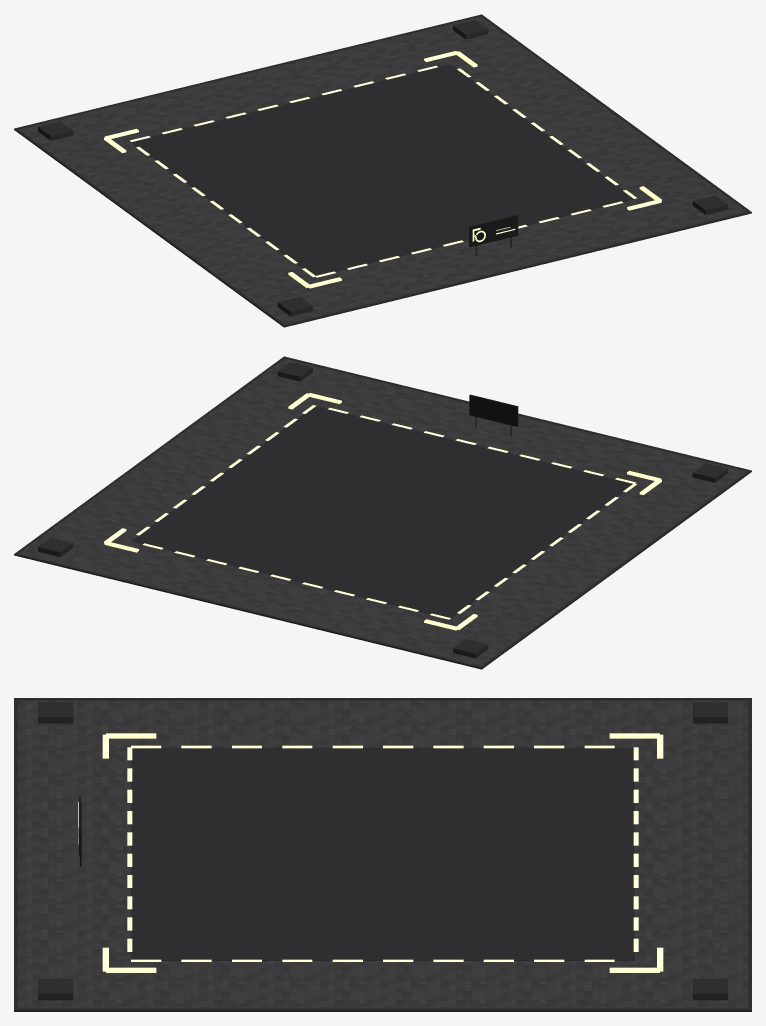
File: plot_empty.glb
3 renders of one model, top to bottom at view 1: azimuth 30°, elevation 25°; view 2: azimuth 150°, elevation 25°; view 3: azimuth 270°, elevation 25°, orthographic. The views are drawn at different scales.
Parts seen in each view (by area): view 1: concrete_dark_plot_empty, paving_plot_empty, emissive_led_plot_empty, black_metal_plot_empty; view 2: concrete_dark_plot_empty, paving_plot_empty, emissive_led_plot_empty, black_metal_plot_empty; view 3: concrete_dark_plot_empty, paving_plot_empty, emissive_led_plot_empty.
Part boxes in pixels (x1,y1,x2,y2): concrete_dark_plot_empty: [14, 14, 751, 327]; paving_plot_empty: [18, 16, 747, 324]; emissive_led_plot_empty: [104, 51, 661, 288]; black_metal_plot_empty: [469, 215, 518, 255]; concrete_dark_plot_empty: [14, 356, 751, 669]; paving_plot_empty: [18, 358, 747, 666]; emissive_led_plot_empty: [104, 393, 661, 630]; black_metal_plot_empty: [469, 394, 518, 435]; concrete_dark_plot_empty: [14, 698, 751, 1011]; paving_plot_empty: [17, 700, 748, 1008]; emissive_led_plot_empty: [78, 733, 663, 972].
Bounding box in the file's own units: 58.6 × 3.8 × 58.6.
Materials: 5 (1 with a texture image).
